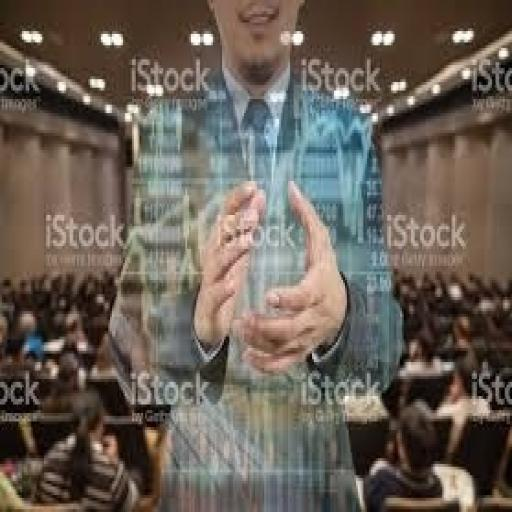clapping: (103, 0, 400, 509), (32, 388, 142, 509)
